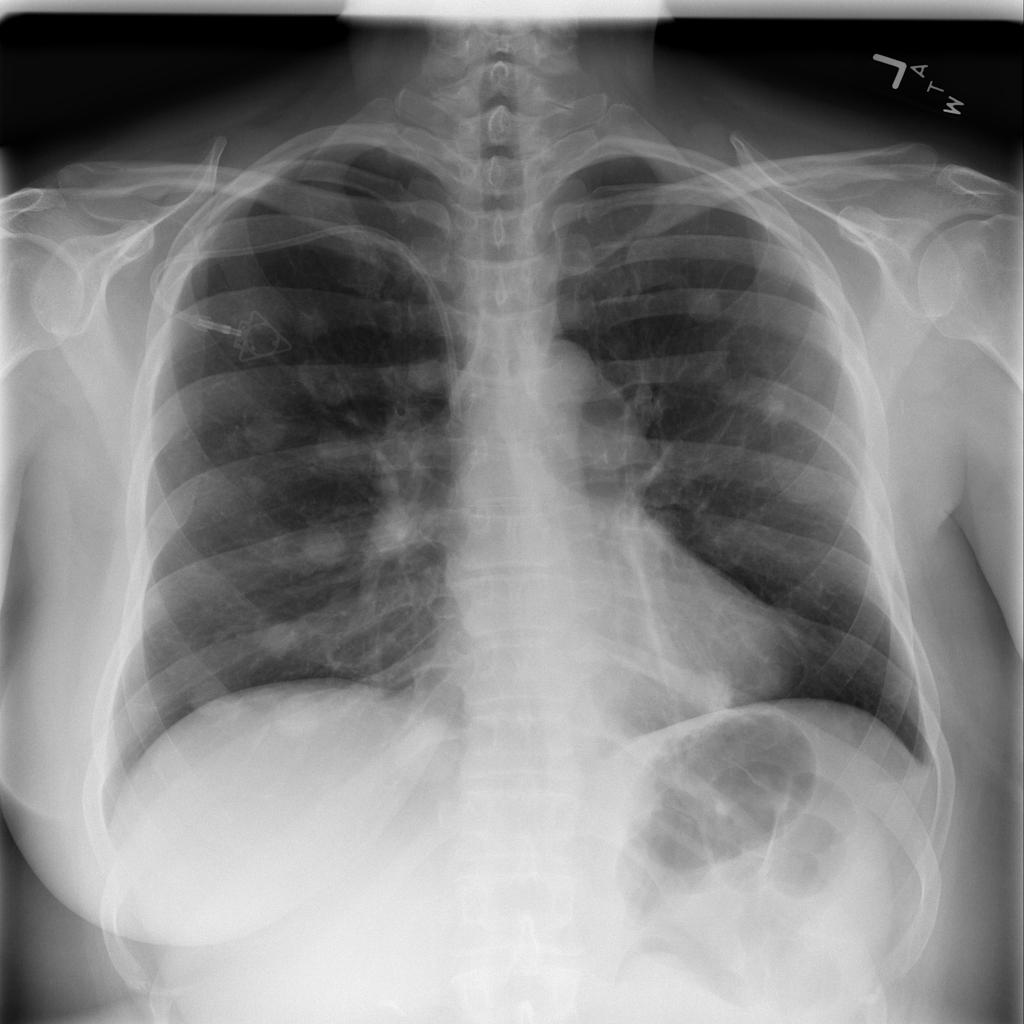nodule: (384, 709, 465, 788), (359, 488, 436, 562), (668, 659, 748, 729), (291, 353, 374, 419), (223, 399, 303, 466), (258, 687, 337, 754), (390, 337, 464, 408), (282, 512, 359, 580), (172, 668, 254, 731), (734, 368, 807, 438), (668, 269, 743, 335), (301, 409, 376, 475), (275, 290, 349, 355), (243, 606, 318, 670), (224, 458, 283, 504)
